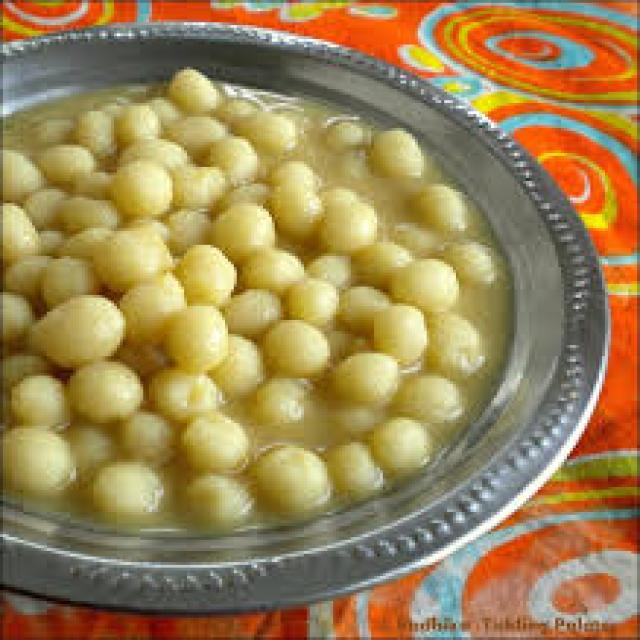paal kolukattai: (0, 37, 547, 535)
